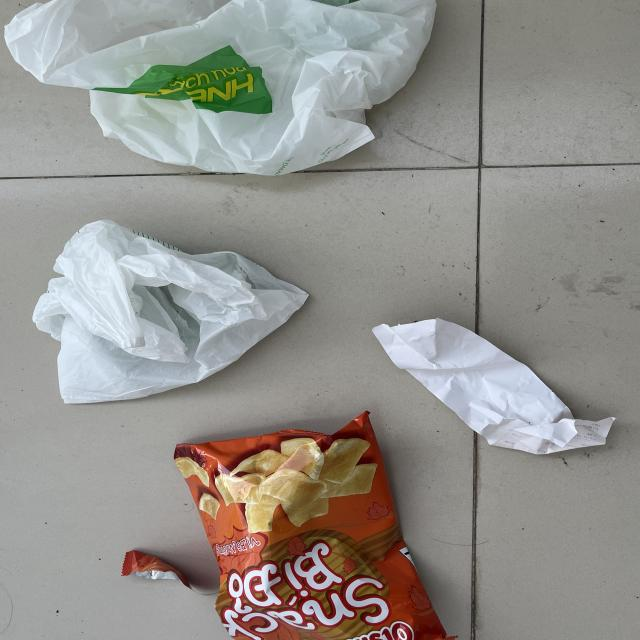bag: (0, 0, 439, 177), (32, 218, 312, 406)
paper: (371, 318, 616, 457)
snack package: (120, 408, 460, 640)
